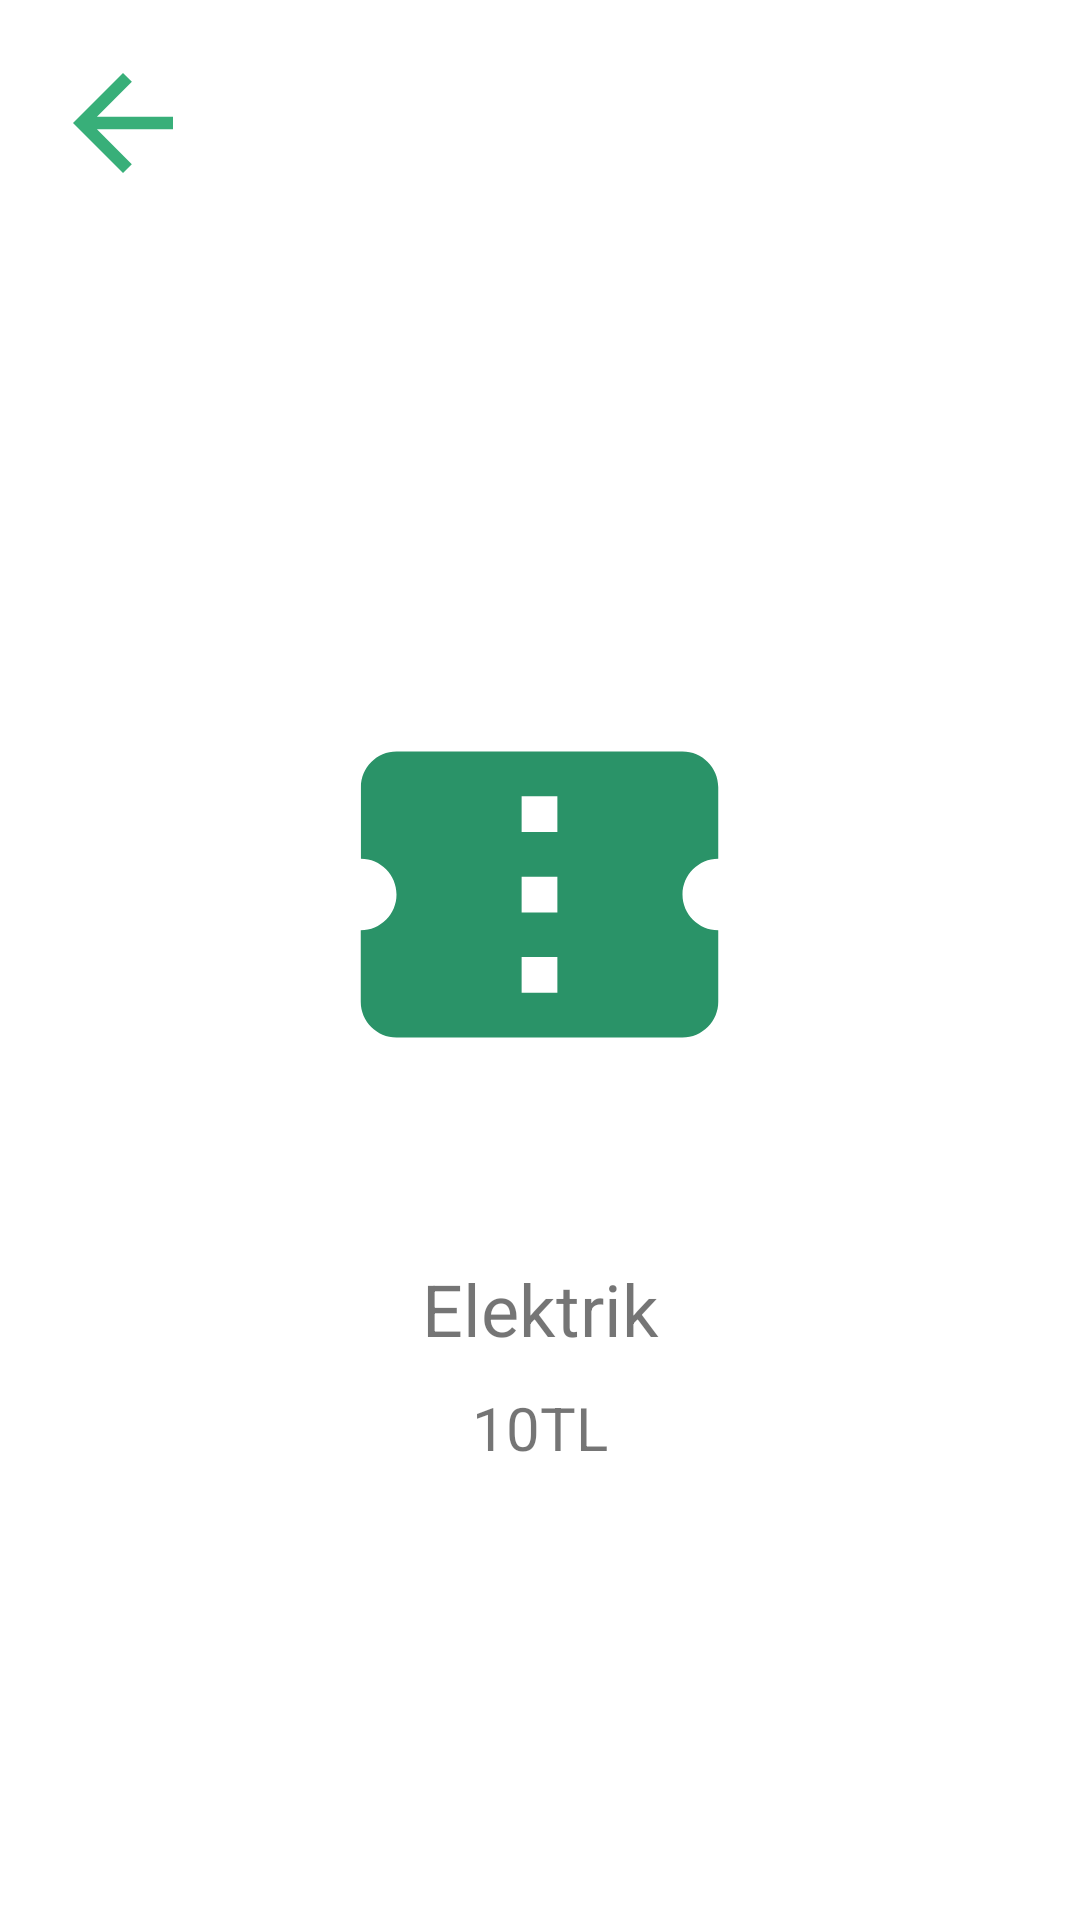

Icons on this 1080px×1920px Android screen, each with its box as (x1, y1, x2, y2):
arrow back: (73, 73, 173, 173)
